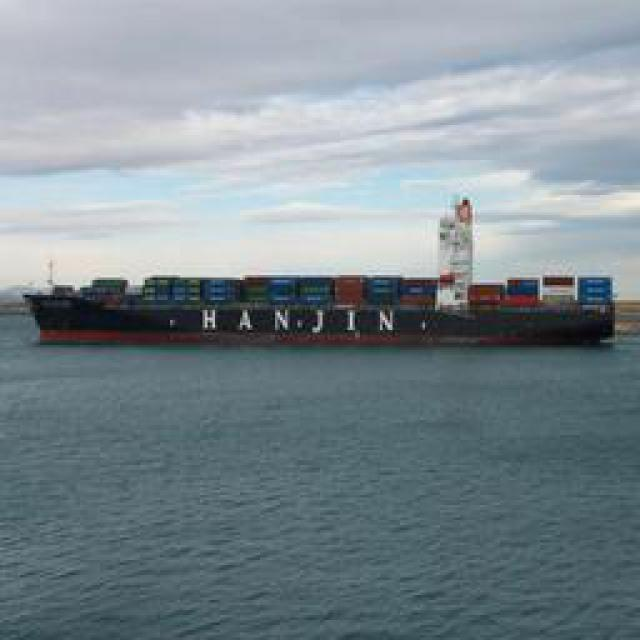Ship: (10, 267, 630, 345)
